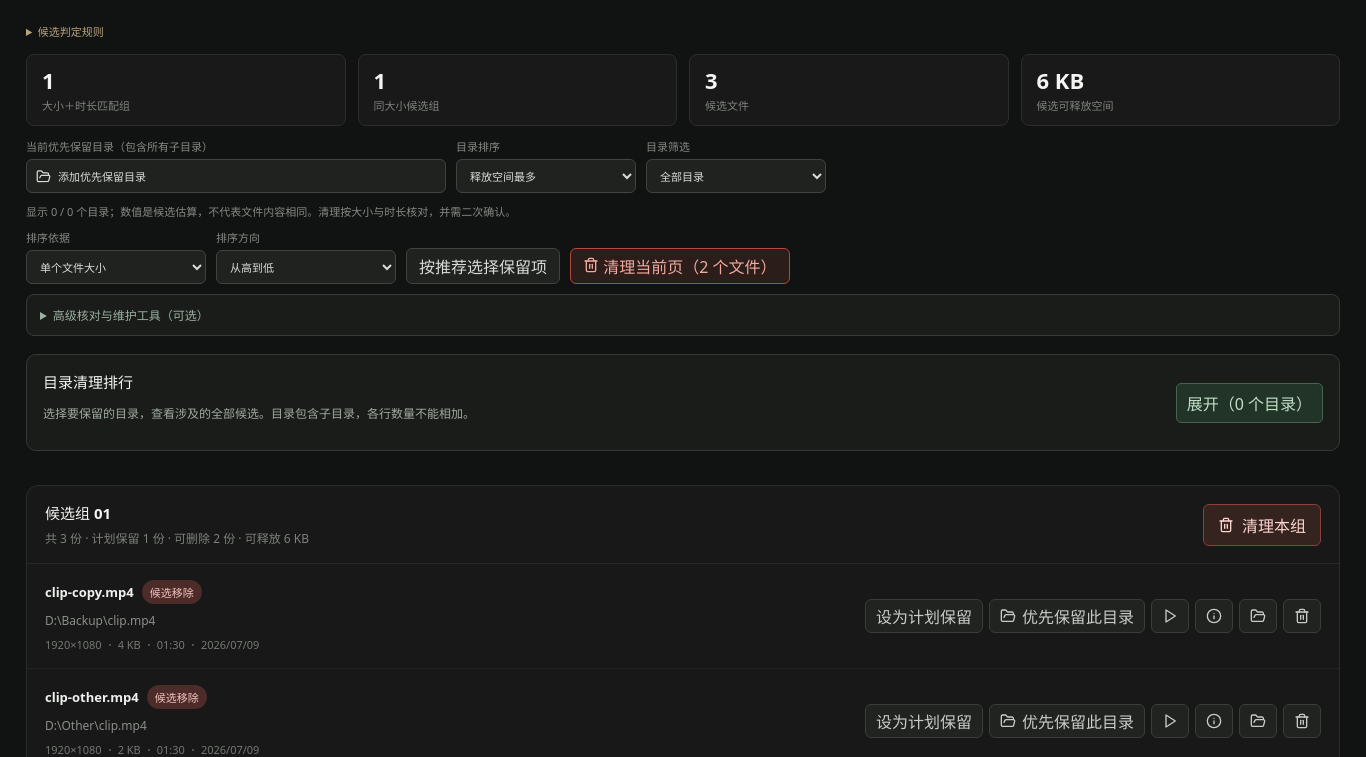
group cleanup button › allows a new confirmed group queue while another background cleanup is running
This screenshot has width=1366, height=757.
Click the button "清理本组".
click(1262, 524)  # box [1203,504,1321,546]
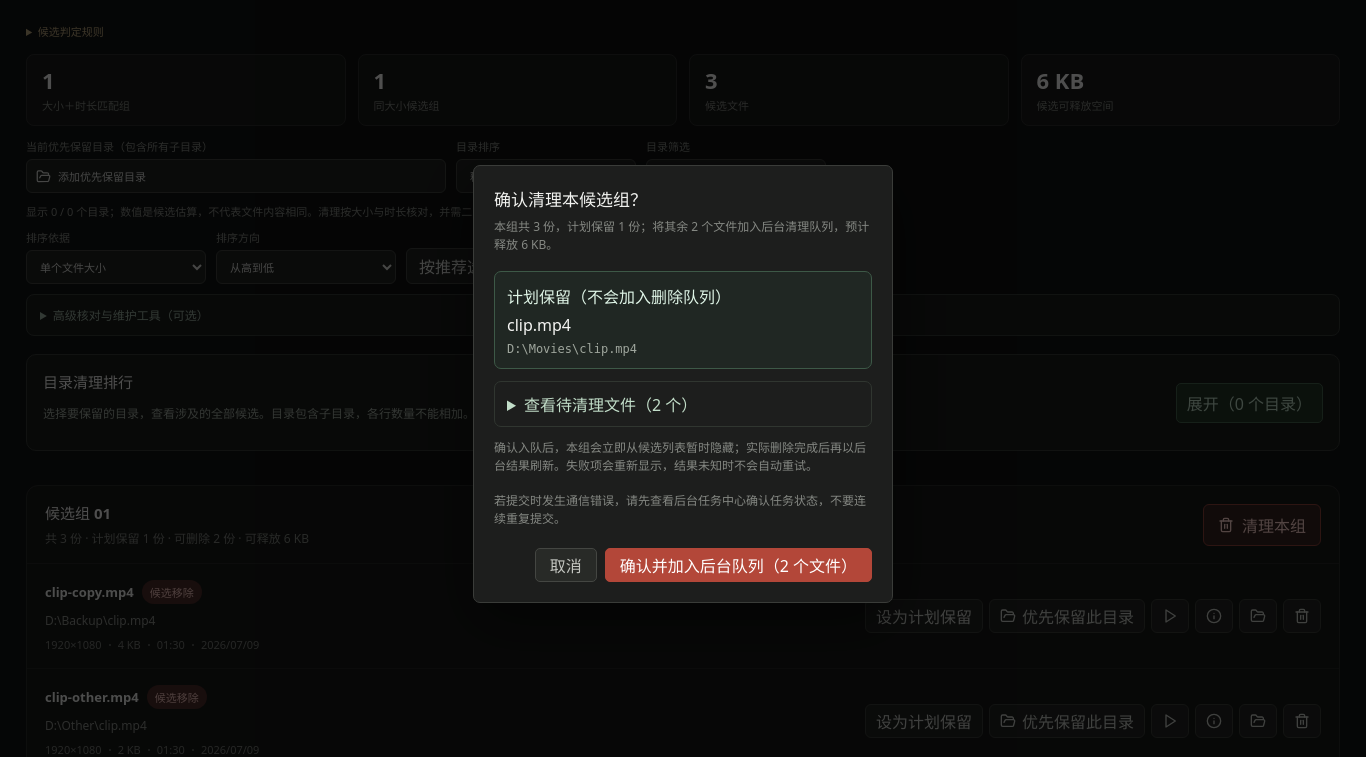
Expected: the dialog "确认清理本候选组？" shows "本组共 3 份", [473,165,893,603]
Expected: the dialog "确认清理本候选组？" shows "计划保留", [540,218,691,235]
Click the button "确认并加入后台队列（2 个文件）".
click(738, 565)  # box [605,548,872,582]
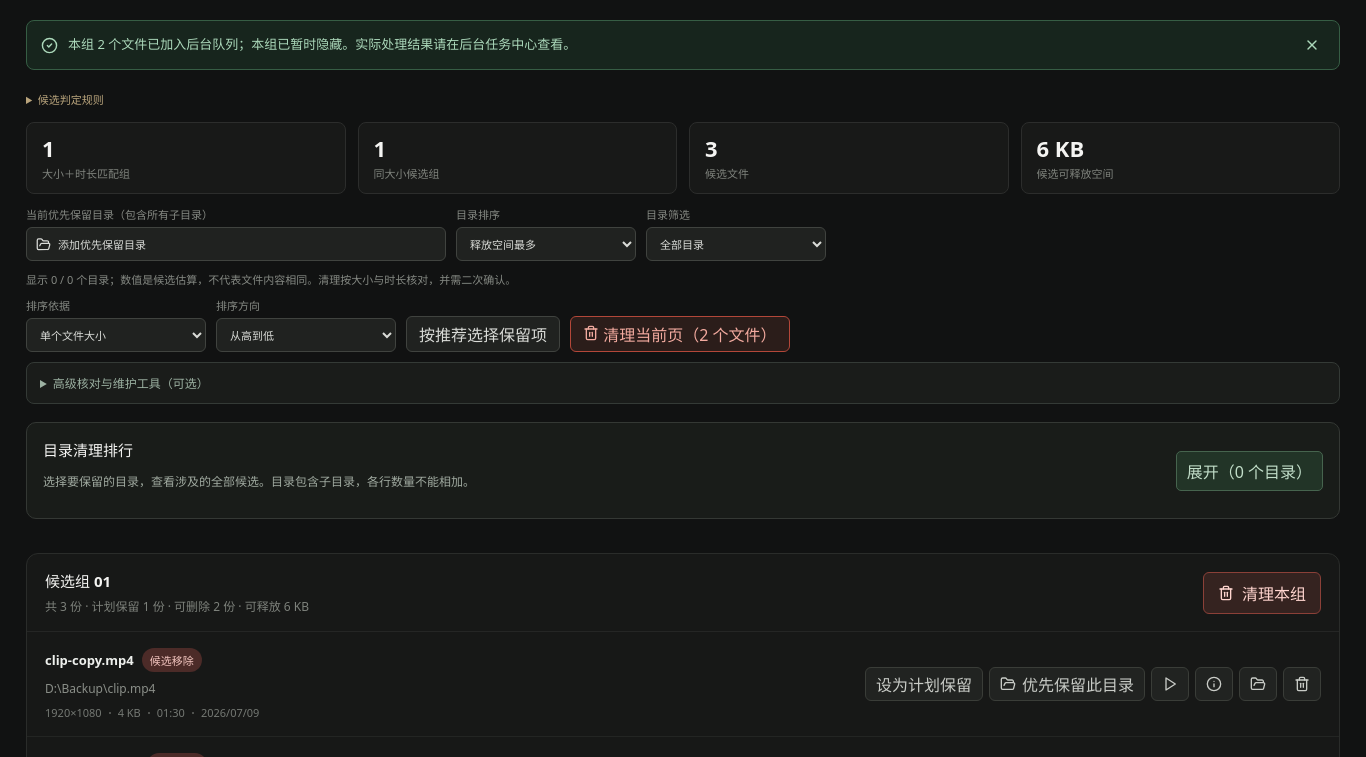
Expected: the heading "确认清理本候选组？" is gone
